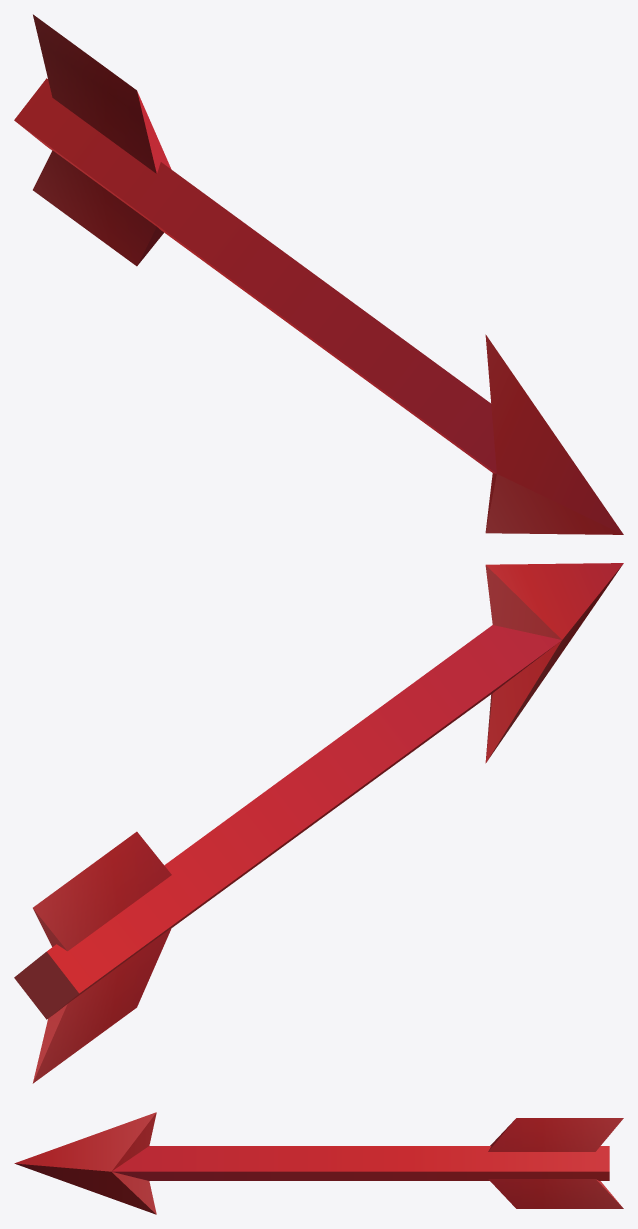
File: arrow.glb
3 views of the same model, one above another, from view 1: azimuth 30°, elevation 25°; view 2: azimuth 150°, elevation 25°; view 3: azimuth 270°, elevation 25° (orthographic). The views are drawn at different scales.
Visible parts, largest first — view 1: arrow; view 2: arrow; view 3: arrow.
Part boxes in pixels (bbox=[...]): arrow: bbox=[14, 14, 623, 534]; arrow: bbox=[14, 563, 623, 1083]; arrow: bbox=[14, 1112, 623, 1214].
Bounding box in the file's own units: 0.00677 × 0.0198 × 0.1062.
Materials: 1 (1 with a texture image).
